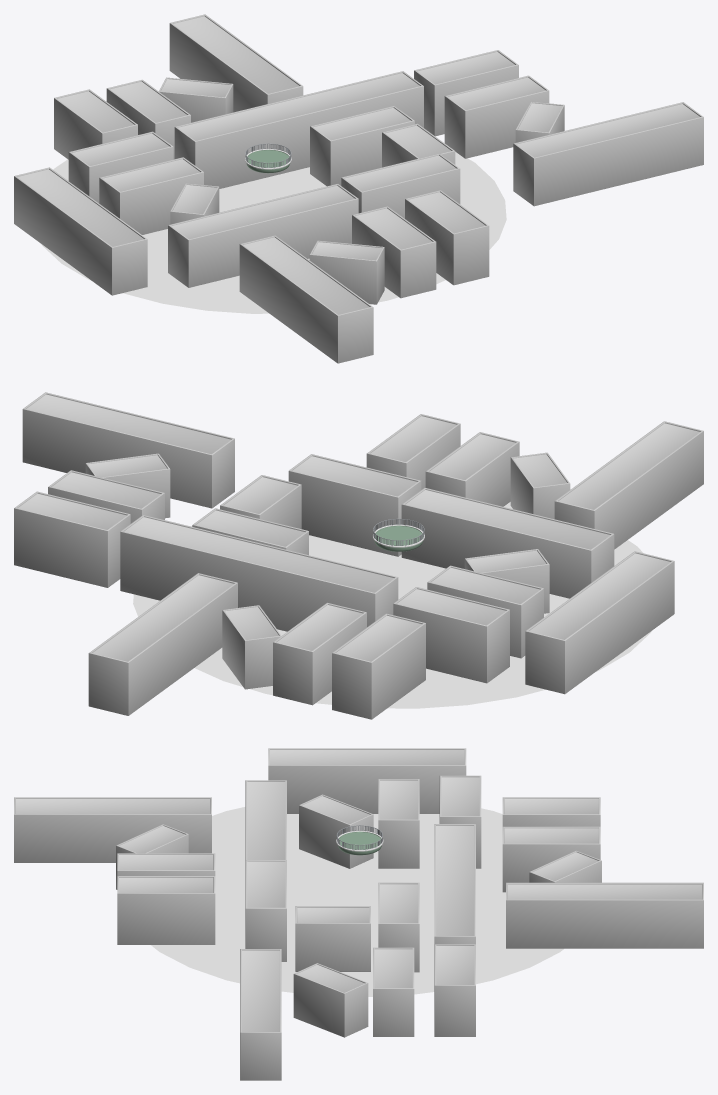
The model's file is rooftop.glb.
The picture shows the model from 3 angles, top to bottom: view 1: azimuth 30°, elevation 25°; view 2: azimuth 150°, elevation 25°; view 3: azimuth 270°, elevation 25°; orthographic projection. The views are drawn at different scales.
Parts seen in each view (by area): view 1: rooftop.background.001, rooftop.background.shadow; view 2: rooftop.background.001, rooftop.background.shadow; view 3: rooftop.background.001, rooftop.background.shadow.
Part boxes in pixels (x1=…): rooftop.background.001: x1=14, y1=14, x2=703, y2=363; rooftop.background.shadow: x1=41, y1=152, x2=506, y2=313; rooftop.background.001: x1=14, y1=392, x2=703, y2=719; rooftop.background.shadow: x1=133, y1=502, x2=651, y2=708; rooftop.background.001: x1=14, y1=748, x2=703, y2=1080; rooftop.background.shadow: x1=151, y1=807, x2=563, y2=996.
Size of the model in its own units: 113 by 11.11 by 115.
5 materials, 1 textured.
